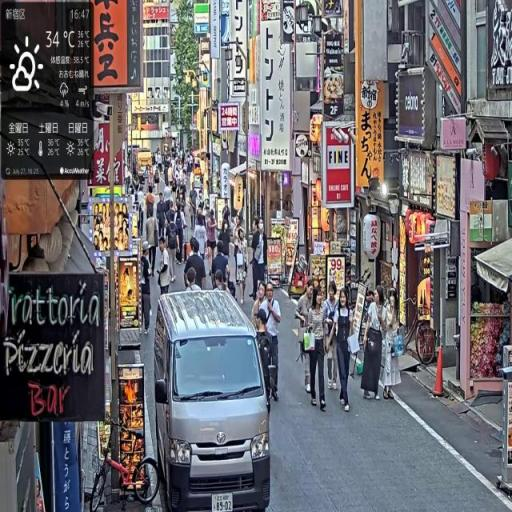person: (361, 285, 388, 403), (306, 288, 329, 412), (251, 219, 268, 300), (139, 245, 154, 336), (184, 240, 207, 293), (155, 238, 173, 300), (166, 216, 180, 287), (211, 243, 232, 290)
